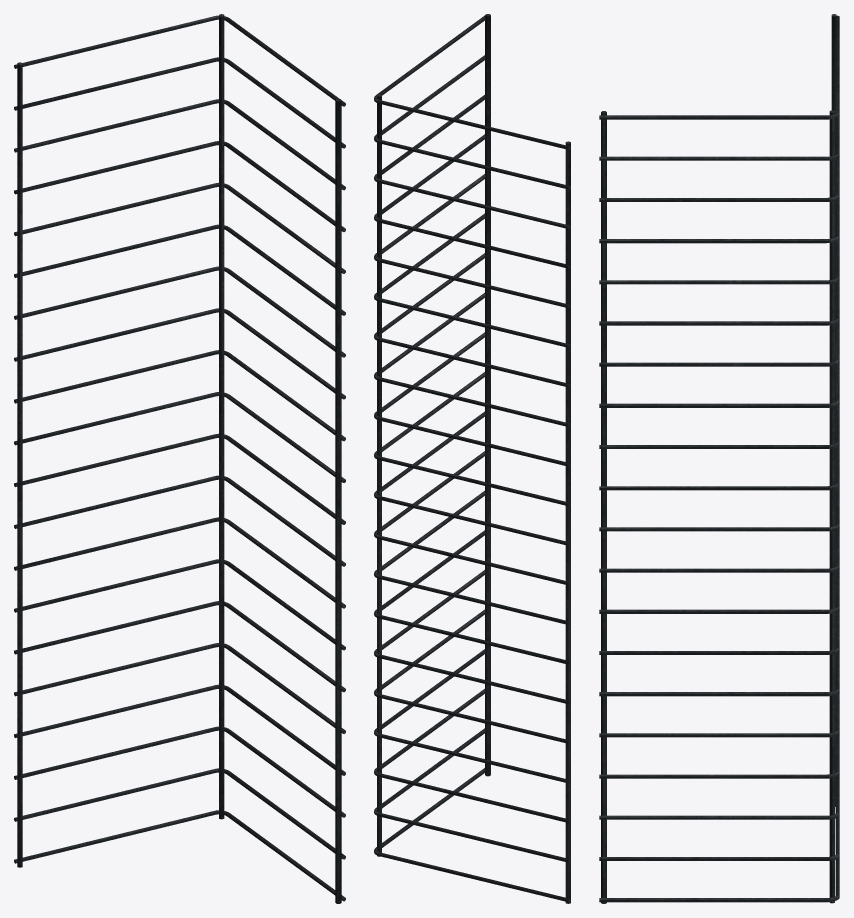
The model's file is CageCornerFinal.fbx.
The picture shows the model from 3 angles, left to right: view 1: azimuth 30°, elevation 25°; view 2: azimuth 150°, elevation 25°; view 3: azimuth 270°, elevation 25°; orthographic projection. The views are drawn at different scales.
Visible parts, largest first — view 1: Cylinder.002; view 2: Cylinder.002; view 3: Cylinder.002.
Boxes of the visible parts, bbox=[...] form: Cylinder.002: bbox=[14, 14, 345, 903]; Cylinder.002: bbox=[374, 14, 570, 903]; Cylinder.002: bbox=[599, 14, 839, 903].
Bounding box in the file's own units: 262 × 960 × 265.
Materials: 1 (1 with a texture image).
